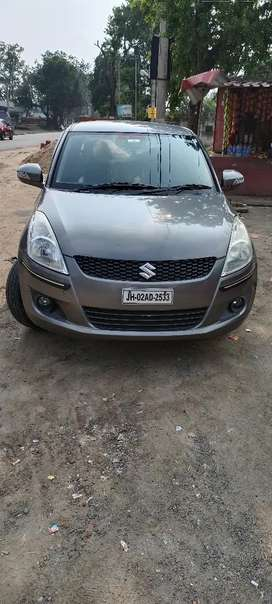JH02AD2533: (123, 289, 173, 304)
